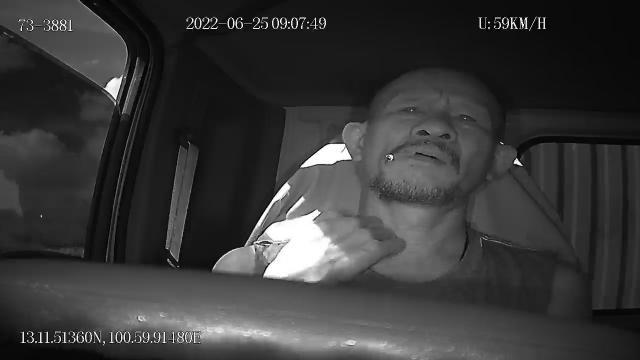SafeDriving: (446, 102, 484, 132), (389, 96, 428, 121)
Smoking: (387, 150, 417, 160)
